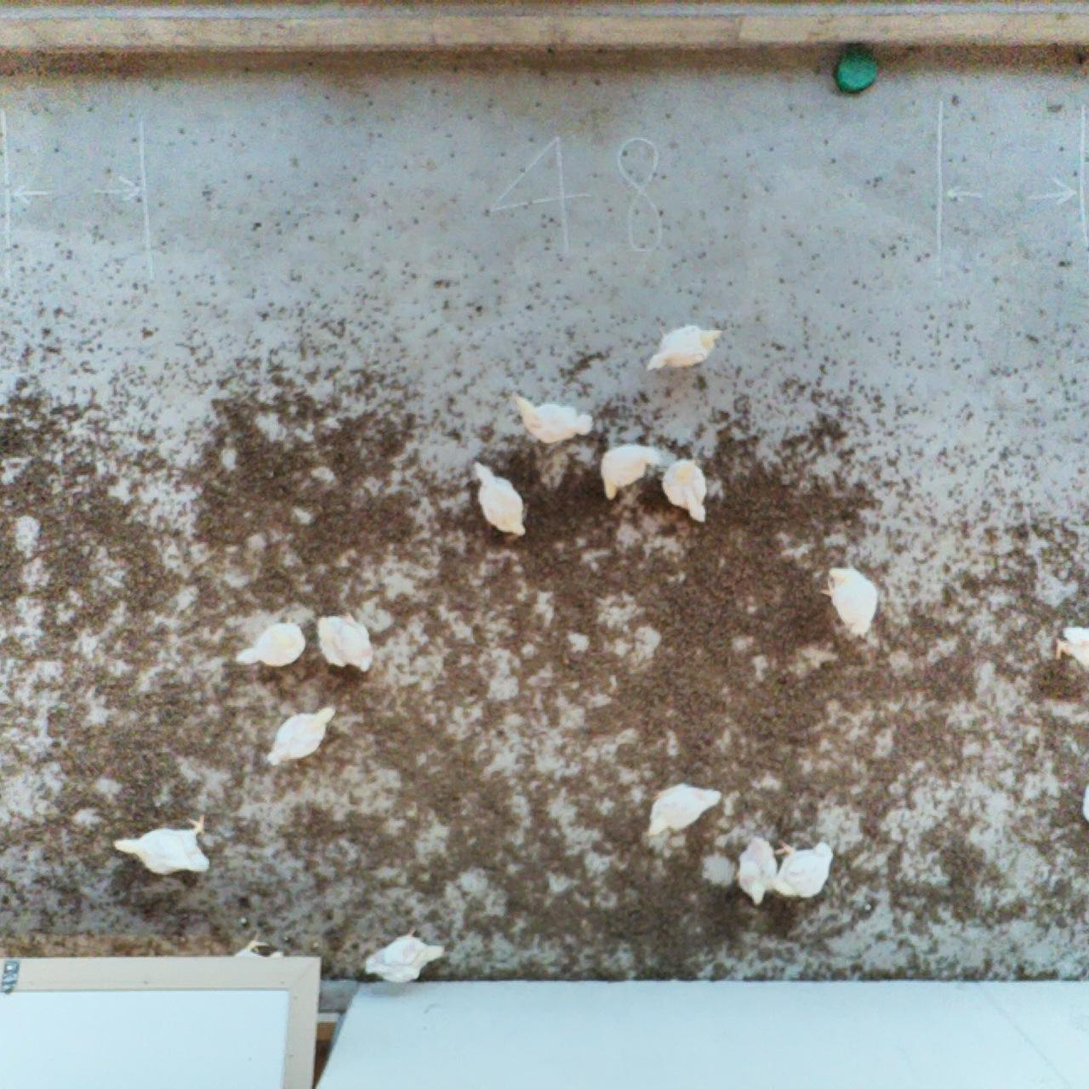chicken: (108, 813, 212, 877), (643, 775, 729, 843), (359, 926, 448, 991), (465, 453, 531, 539), (813, 559, 881, 640), (506, 388, 594, 443), (261, 701, 334, 767), (769, 837, 839, 901), (311, 605, 374, 674), (645, 322, 727, 372), (730, 831, 781, 908), (597, 441, 664, 499), (232, 621, 307, 670), (658, 455, 710, 525), (203, 934, 287, 970), (1048, 620, 1089, 673)
